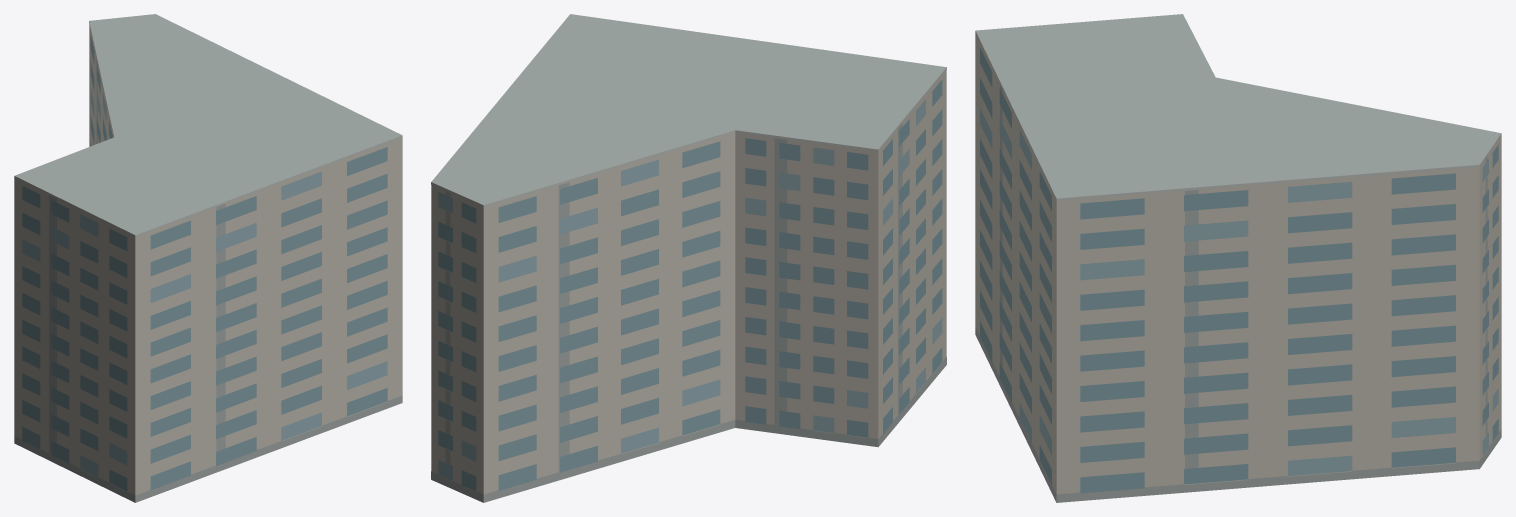
The model's file is residential-c705de82-5d20-447a-97f1-7e009267c73a.glb.
3 renders of one model, left to right at view 1: azimuth 30°, elevation 25°; view 2: azimuth 150°, elevation 25°; view 3: azimuth 270°, elevation 25°, orthographic. The views are drawn at different scales.
Visible parts, largest first — view 1: residential-c705de82-5d20-447a-97f1-7e009267c73a.tmp; view 2: residential-c705de82-5d20-447a-97f1-7e009267c73a.tmp; view 3: residential-c705de82-5d20-447a-97f1-7e009267c73a.tmp.
Boxes of the visible parts, <box> form: residential-c705de82-5d20-447a-97f1-7e009267c73a.tmp: <box>14,14,402,502</box>; residential-c705de82-5d20-447a-97f1-7e009267c73a.tmp: <box>431,14,946,502</box>; residential-c705de82-5d20-447a-97f1-7e009267c73a.tmp: <box>975,14,1501,502</box>.
Bounding box in the file's own units: 37.73 × 29 × 45.44.
